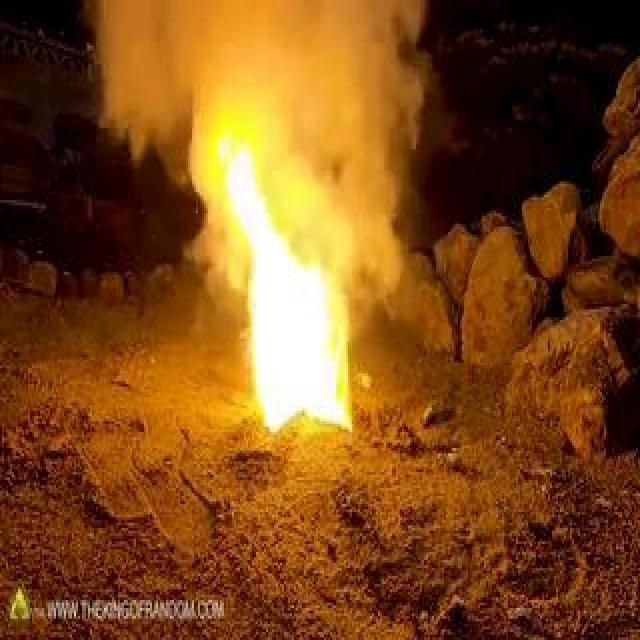Fire: (132, 162, 322, 326)
